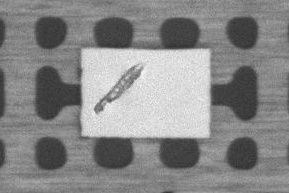DIE_INK: (93, 64, 142, 113)
